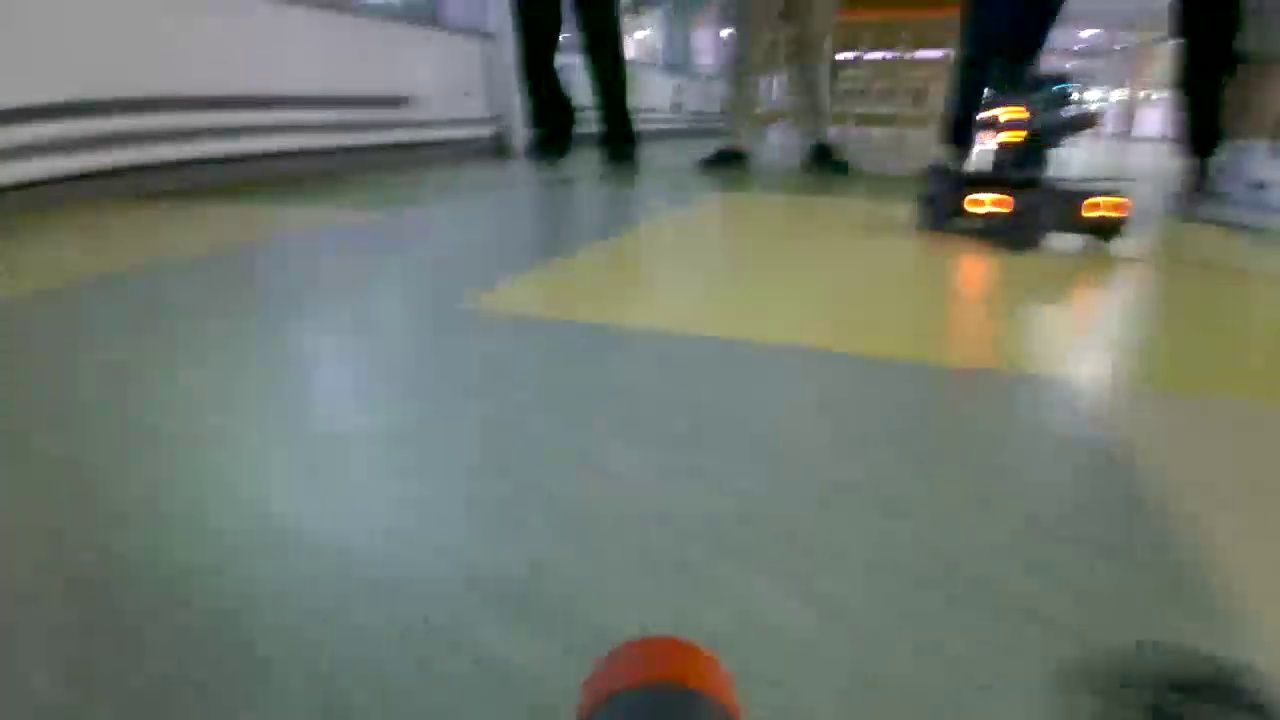robot: (908, 69, 1133, 250)
